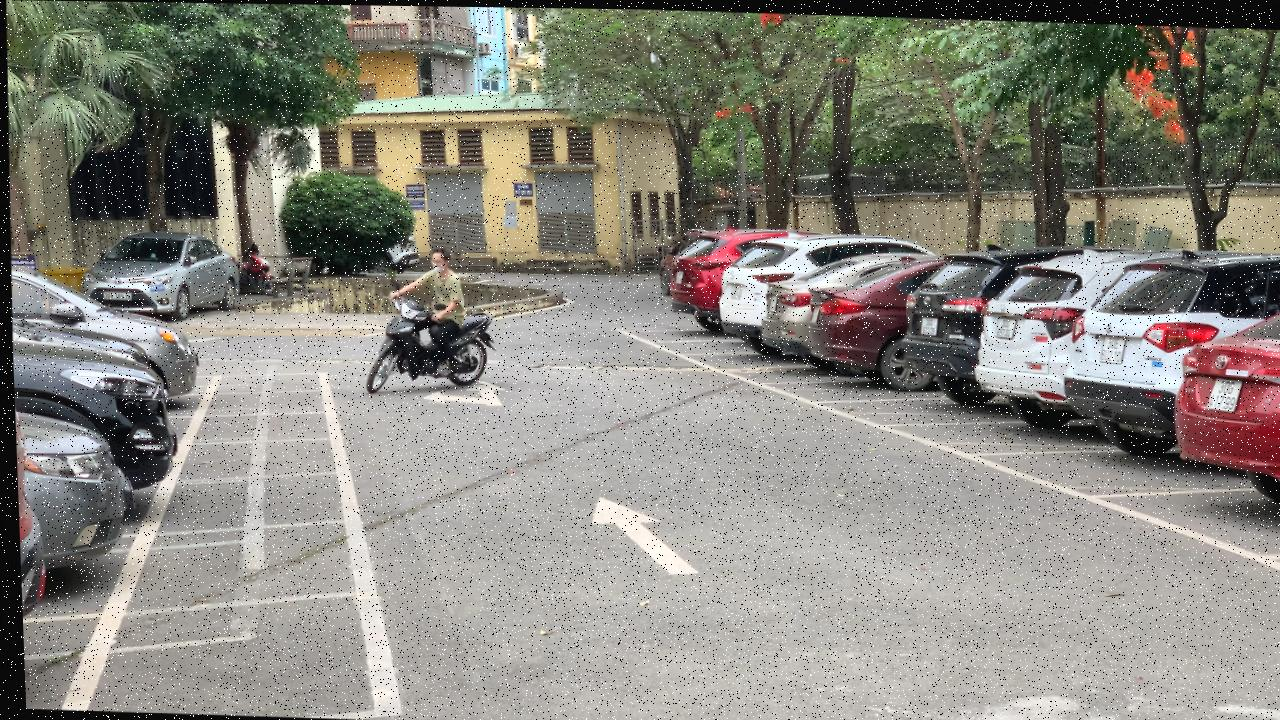motorcyclist: (356, 244, 496, 397)
